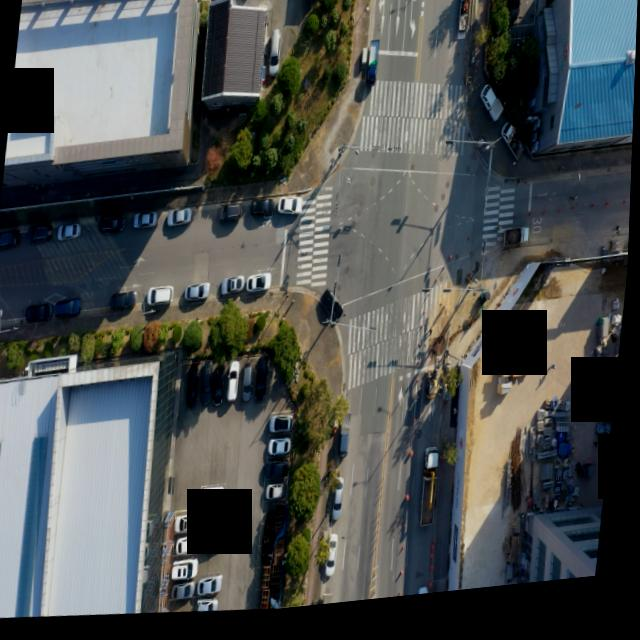car: (324, 293, 351, 333), (199, 360, 219, 414), (188, 366, 206, 417), (267, 31, 284, 83), (54, 295, 83, 323), (113, 289, 140, 313), (215, 366, 229, 411), (201, 577, 227, 601), (26, 302, 53, 325), (148, 287, 176, 309), (327, 542, 341, 584), (256, 365, 270, 407), (251, 200, 275, 224), (178, 536, 203, 559), (248, 277, 274, 299), (100, 215, 126, 237), (229, 367, 243, 407), (186, 284, 212, 305), (167, 210, 193, 231), (57, 222, 83, 243), (208, 534, 232, 556), (279, 202, 305, 222), (178, 515, 201, 537), (175, 564, 199, 585), (203, 512, 227, 533), (135, 212, 160, 232), (223, 279, 246, 300), (204, 489, 227, 510), (0, 227, 21, 250), (245, 370, 258, 407), (272, 418, 294, 439), (270, 464, 292, 485), (272, 441, 294, 461), (31, 224, 53, 244), (175, 586, 198, 605), (220, 204, 242, 223), (335, 491, 346, 527), (270, 488, 288, 507), (200, 602, 222, 617), (421, 590, 436, 604), (225, 0, 239, 4), (210, 0, 223, 2), (239, 0, 250, 0)
medium_truck: (424, 457, 444, 532)
small_truck: (477, 90, 512, 139), (501, 130, 528, 173), (455, 0, 475, 49), (365, 50, 382, 99), (339, 417, 355, 469), (504, 236, 532, 260)
